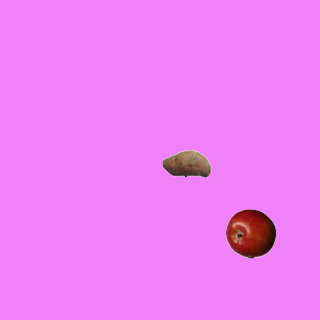Apple Braeburn: (225, 208, 275, 258)
Potato Sweet: (161, 138, 211, 188)
